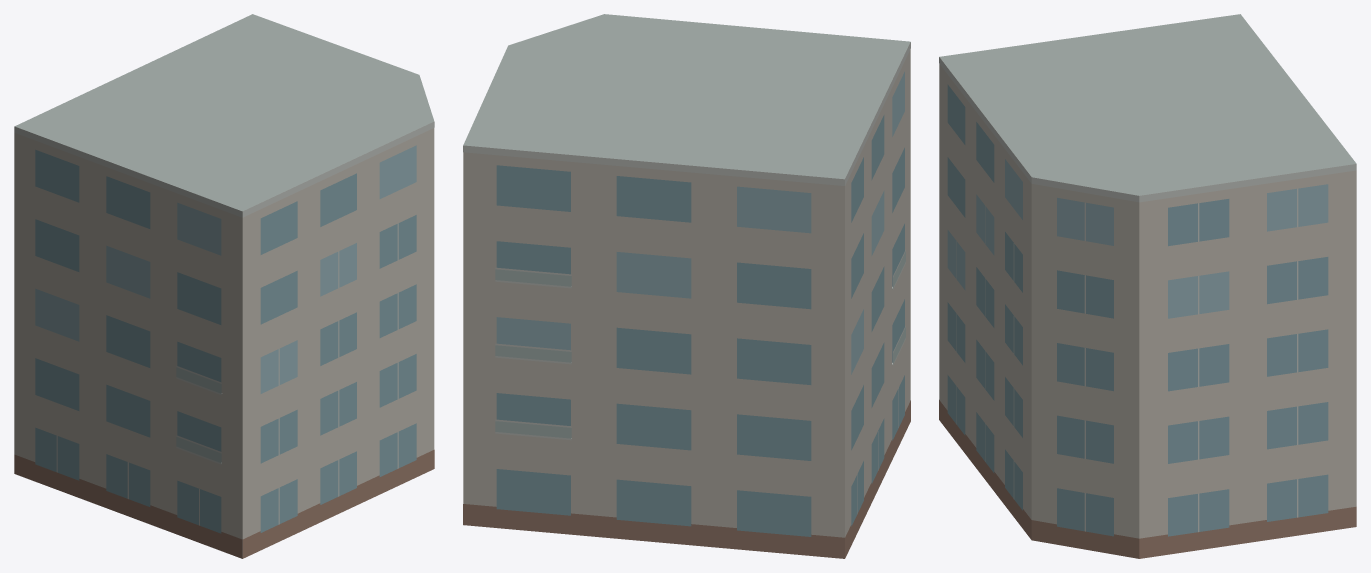
The model's file is survey-upis-33022879.glb.
The picture shows the model from 3 angles, left to right: view 1: azimuth 30°, elevation 25°; view 2: azimuth 150°, elevation 25°; view 3: azimuth 270°, elevation 25°; orthographic projection. The views are drawn at different scales.
Visible parts, largest first — view 1: survey-upis-33022879.tmp; view 2: survey-upis-33022879.tmp; view 3: survey-upis-33022879.tmp.
Part boxes in pixels (left/top/right/bottom): survey-upis-33022879.tmp: left=14, top=14, right=434, bottom=558; survey-upis-33022879.tmp: left=463, top=14, right=910, bottom=558; survey-upis-33022879.tmp: left=939, top=14, right=1356, bottom=558.
Size of the model in its own units: 14.51 by 13.5 by 14.08.
